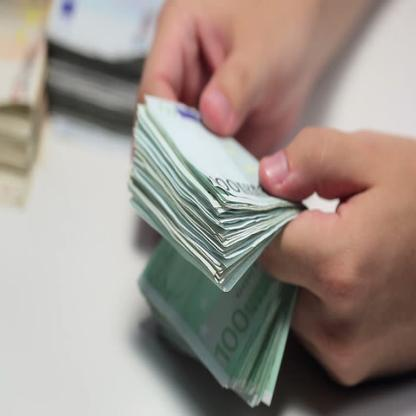billete: (126, 91, 308, 407)
